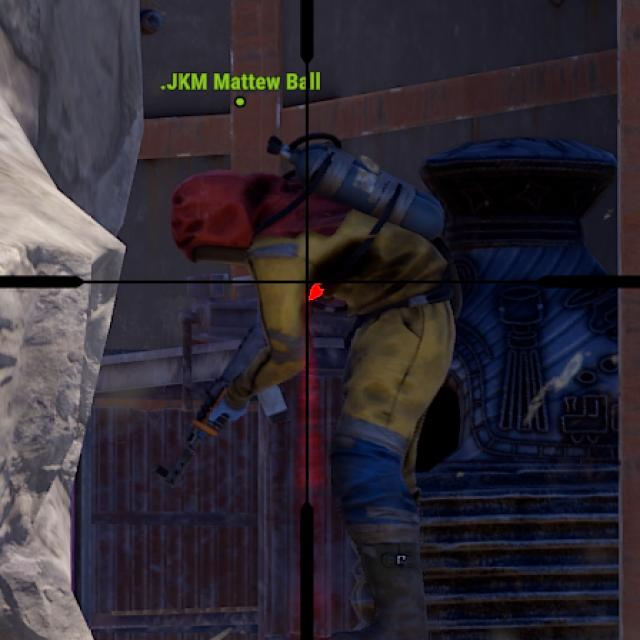Player: (173, 132, 459, 640)
